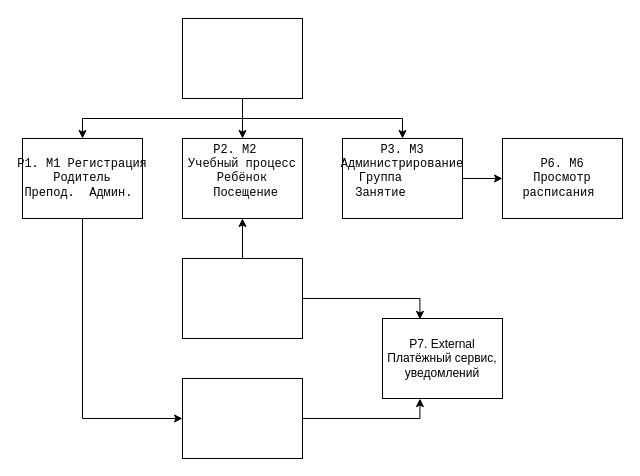
Image size: 640x476. Some labels were removed from this diagram. The shapes that lost their labels are listed below. From the top down, each one's box as (x1, y1, x2, y2) in pixels, then its label:
(182, 18, 302, 98): P0. UI MainForm PaymentForm ScheduleView
(182, 258, 302, 338): P4. M4 Платежи
(182, 378, 302, 458): P5. M5 Уведомления
